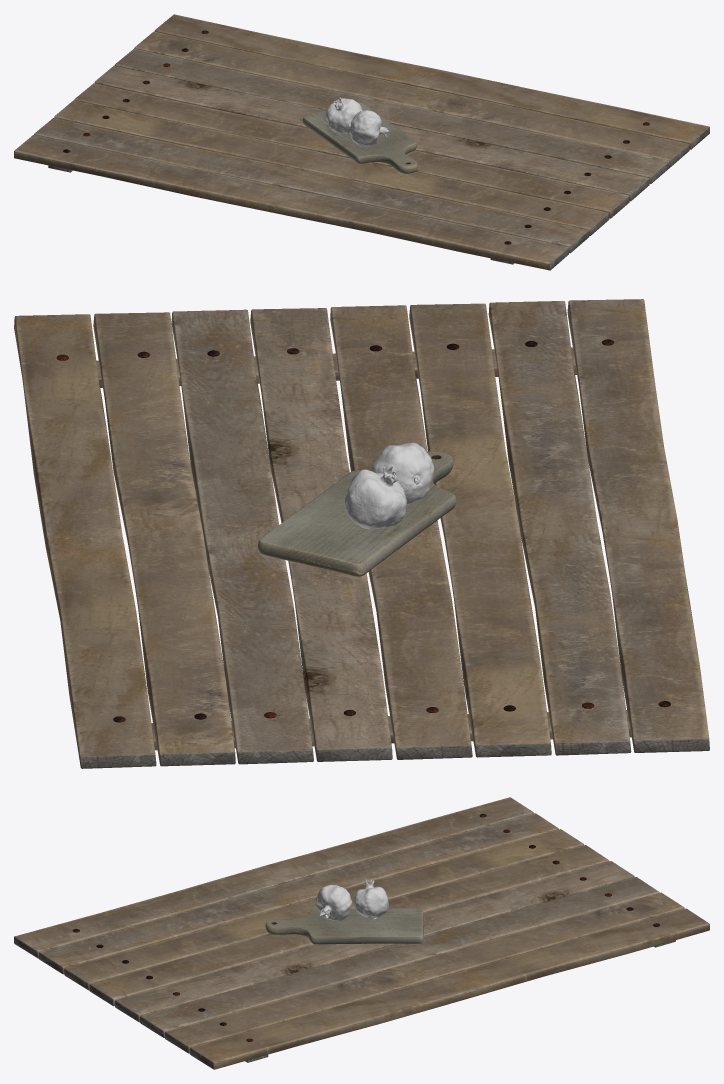
Rendered from g_jablko_old_ske.FBX.
The picture shows the model from 3 angles, top to bottom: view 1: azimuth 30°, elevation 25°; view 2: azimuth 150°, elevation 25°; view 3: azimuth 270°, elevation 25°; orthographic projection. The views are drawn at different scales.
Parts seen in each view (by area): view 1: deska_stolu, prkynko, g_jablko_old, g_jablko_old001; view 2: deska_stolu, prkynko, g_jablko_old001, g_jablko_old; view 3: deska_stolu, prkynko, g_jablko_old, g_jablko_old001.
Boxes of the visible parts, x1=… form: deska_stolu: x1=14, y1=14, x2=709, y2=270; prkynko: x1=302, y1=102, x2=417, y2=173; g_jablko_old: x1=348, y1=110, x2=388, y2=146; g_jablko_old001: x1=326, y1=97, x2=362, y2=133; deska_stolu: x1=14, y1=299, x2=709, y2=768; prkynko: x1=258, y1=451, x2=456, y2=576; g_jablko_old001: x1=344, y1=465, x2=406, y2=529; g_jablko_old: x1=371, y1=442, x2=434, y2=504; deska_stolu: x1=14, y1=797, x2=709, y2=1069; prkynko: x1=265, y1=908, x2=423, y2=944; g_jablko_old: x1=315, y1=885, x2=352, y2=920; g_jablko_old001: x1=354, y1=879, x2=388, y2=919.
Bounding box in the file's own units: 56500 × 5462 × 62513.
